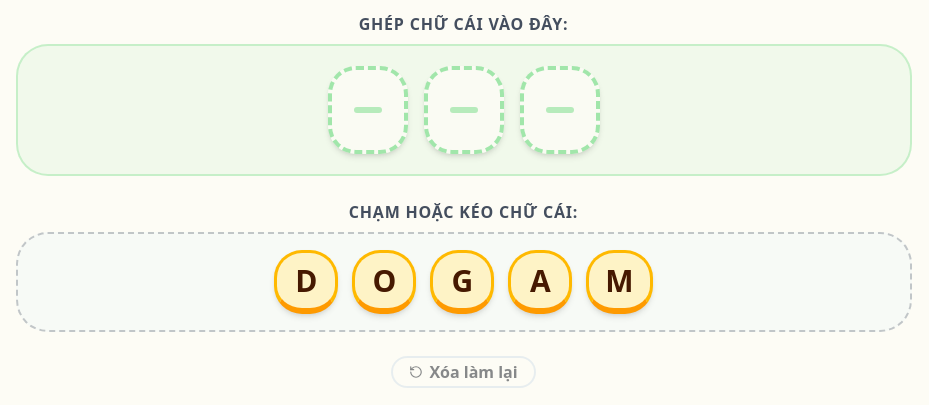
Scenario: DragDropBoard Component › removes a placed letter back to bank when the filled slot is tapped
Click the button named "Chữ cái D" at x=306, y=282, box x1=274 y1=250 x2=338 y2=314
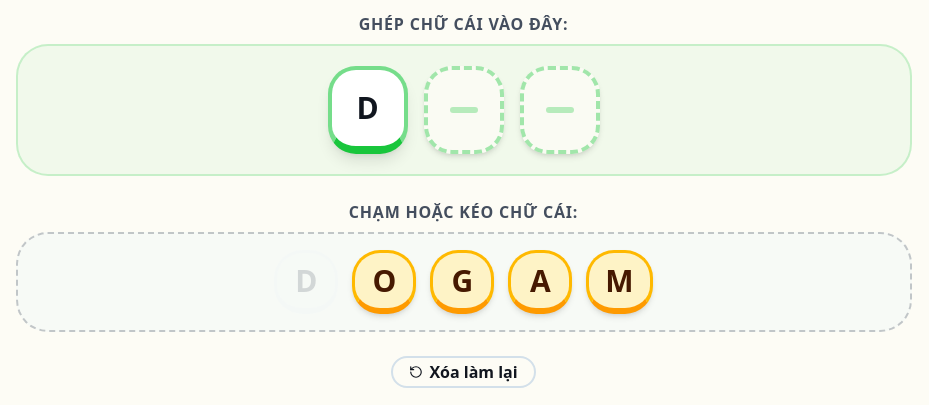
Click the button named "Ô chữ cái 1: D" at x=368, y=110, box x1=328 y1=66 x2=408 y2=154
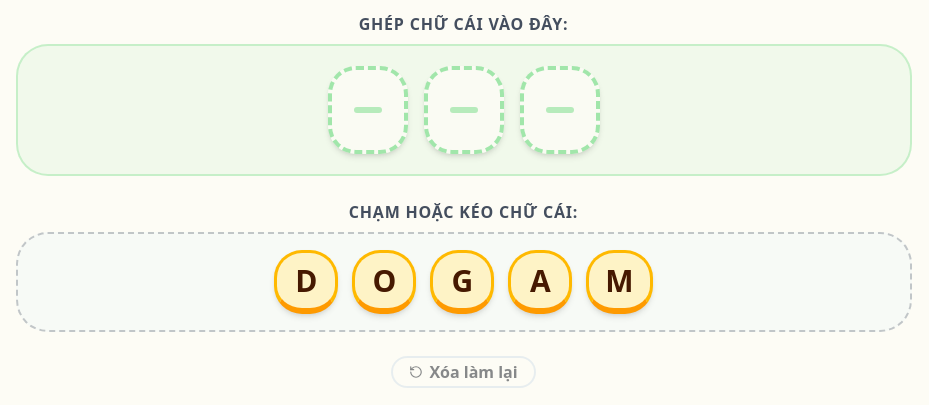
Now the button named "Ô chữ cái 1: trống" is shown, box x1=328 y1=66 x2=408 y2=154
